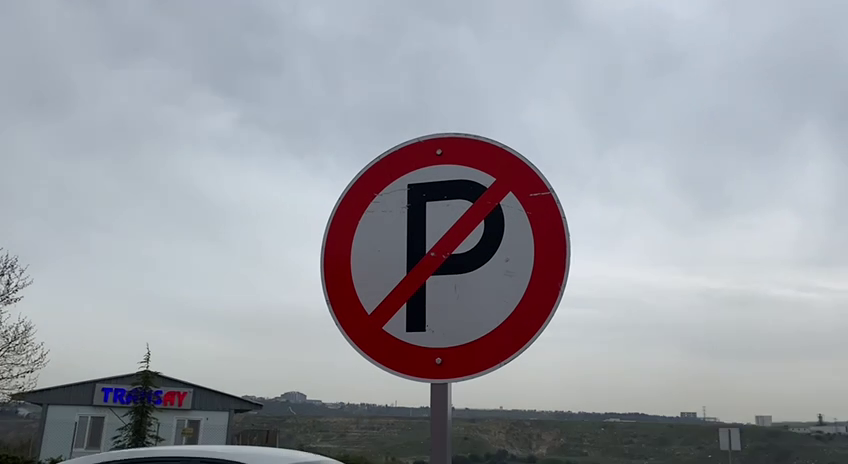noparking: (311, 121, 581, 390)
